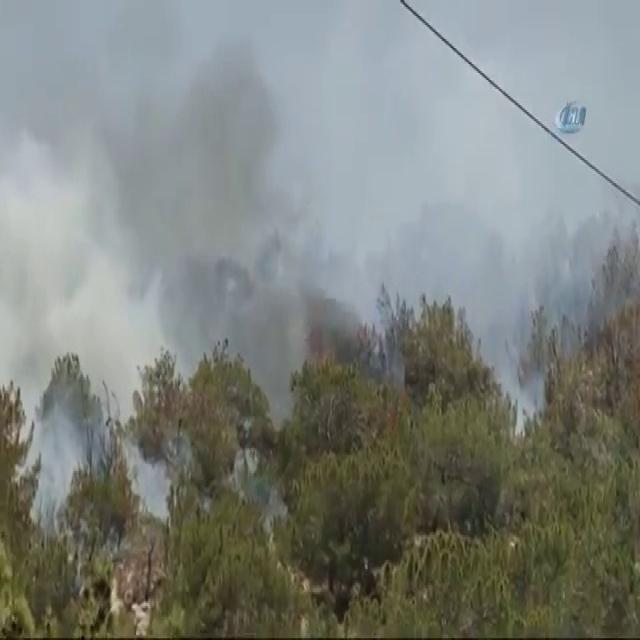Smoke: (0, 6, 331, 496)
